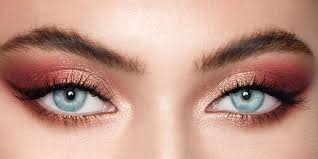pupil: (54, 86, 86, 112), (231, 90, 263, 112)
